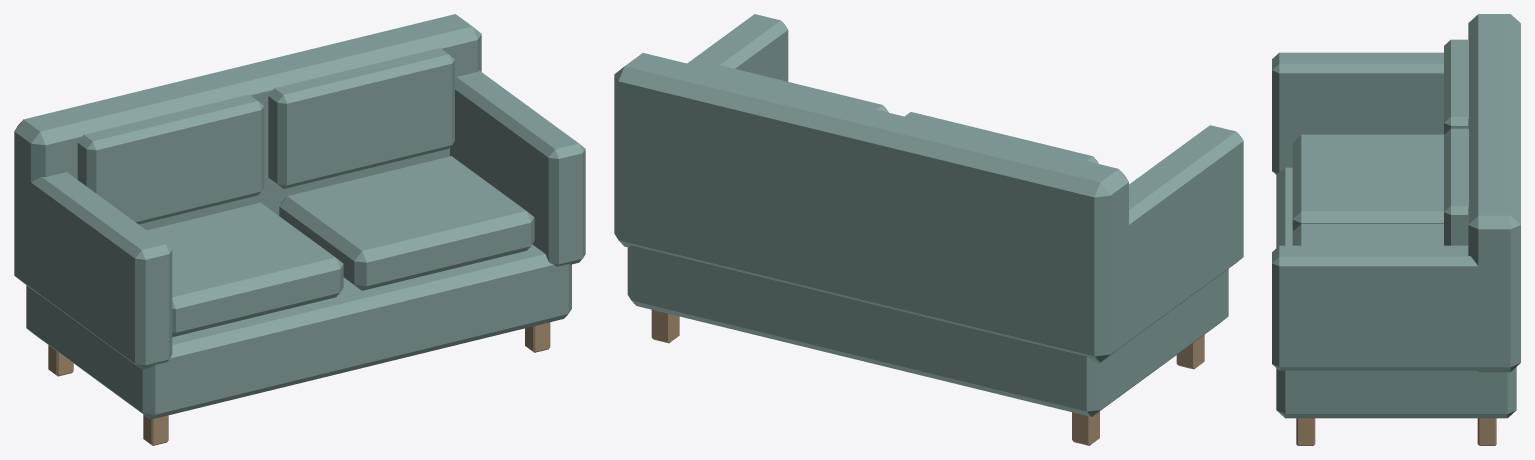
The model's file is sofa.fbx.
3 renders of one model, left to right at view 1: azimuth 30°, elevation 25°; view 2: azimuth 150°, elevation 25°; view 3: azimuth 270°, elevation 25°, orthographic. The views are drawn at different scales.
Visible parts, largest first — view 1: sofa; view 2: sofa; view 3: sofa.
Boxes of the visible parts, x1=… form: sofa: x1=14, y1=14, x2=585, y2=445; sofa: x1=614, y1=14, x2=1243, y2=445; sofa: x1=1272, y1=14, x2=1520, y2=445.
Size of the model in its own units: 1.7 by 0.9 by 0.85.
